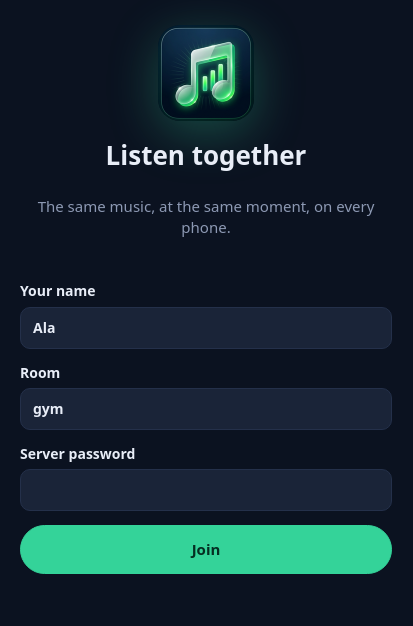
Scenario: LoginView › explains a 401 response
The image size is (413, 626).
Type "x" into the password field labelled "Server password". click: point(206, 490)
box: [20, 469, 392, 511]
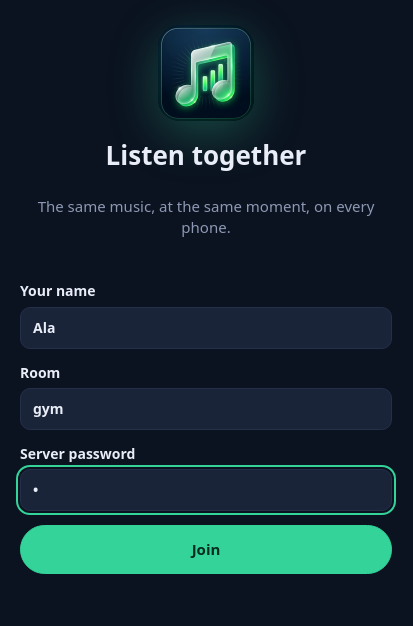
Click the button "Join". click: point(206, 550)
box: [20, 525, 392, 574]
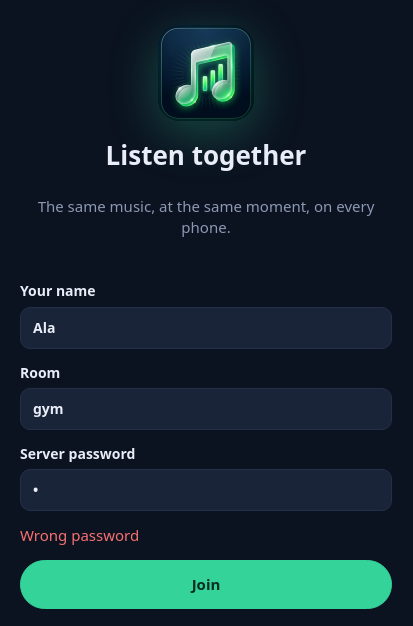
Expected: the message reads "Wrong password", [20, 525, 139, 545]
